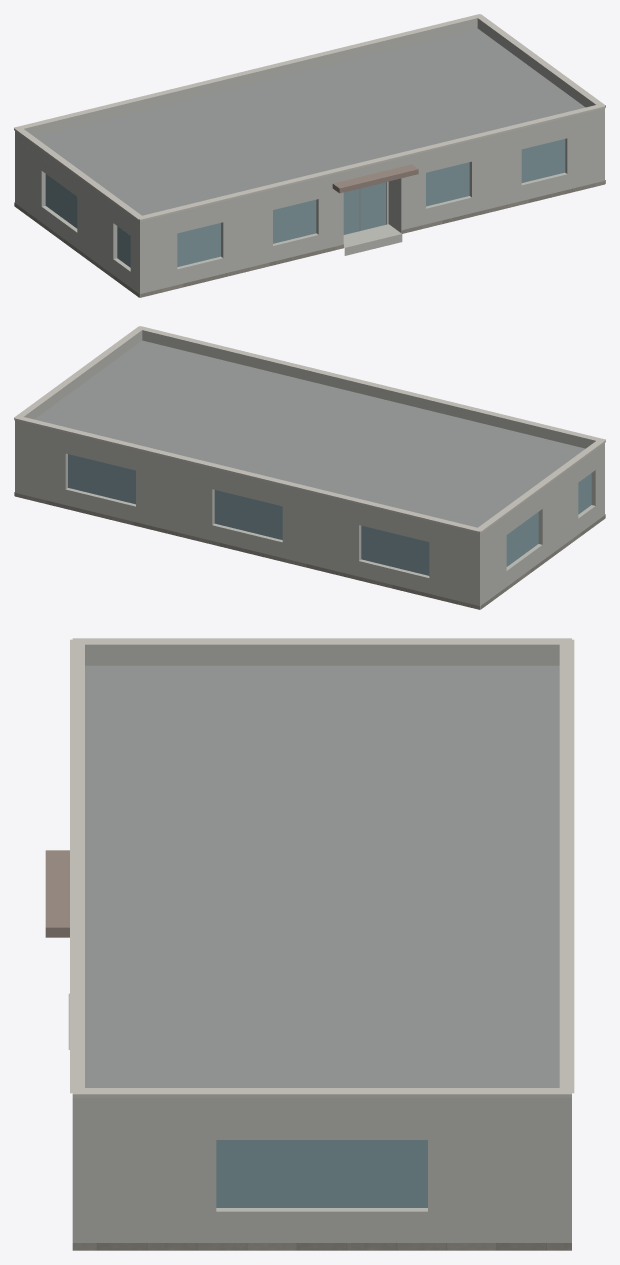
3 views of the same model, one above another, from view 1: azimuth 30°, elevation 25°; view 2: azimuth 150°, elevation 25°; view 3: azimuth 270°, elevation 25° (orthographic). The views are drawn at different scales.
Parts seen in each view (by area): view 1: osm468571906__roof, osm468571906__wall, osm468571906__parapet, osm468571906__glass, osm468571906__trim, osm468571906__base, osm468571906__entranceThreshold_0, osm468571906__canopy; view 2: osm468571906__roof, osm468571906__wall, osm468571906__parapet, osm468571906__glass, osm468571906__trim, osm468571906__base; view 3: osm468571906__roof, osm468571906__wall, osm468571906__trim, osm468571906__parapet, osm468571906__glass, osm468571906__base, osm468571906__canopy.
Boxes of the visible parts, <box> form: osm468571906__roof: <box>34,28,585,297</box>; osm468571906__wall: <box>15,116,604,297</box>; osm468571906__parapet: <box>15,18,604,229</box>; osm468571906__glass: <box>45,139,565,267</box>; osm468571906__trim: <box>14,14,605,221</box>; osm468571906__base: <box>14,180,605,297</box>; osm468571906__entranceThreshold_0: <box>343,224,402,255</box>; osm468571906__canopy: <box>332,164,418,193</box>; osm468571906__roof: <box>34,340,585,609</box>; osm468571906__wall: <box>15,428,604,609</box>; osm468571906__parapet: <box>15,330,604,541</box>; osm468571906__glass: <box>68,454,591,575</box>; osm468571906__trim: <box>14,326,605,533</box>; osm468571906__base: <box>14,492,605,609</box>; osm468571906__roof: <box>85,665,559,1087</box>; osm468571906__wall: <box>72,1114,571,1242</box>; osm468571906__trim: <box>70,638,574,1097</box>; osm468571906__parapet: <box>72,644,571,1113</box>; osm468571906__glass: <box>216,1140,427,1207</box>; osm468571906__base: <box>72,1243,571,1250</box>; osm468571906__canopy: <box>45,850,69,937</box>.
Bounding box in the file's own units: 25.93 × 4.55 × 12.71.
10 materials, 1 textured.
